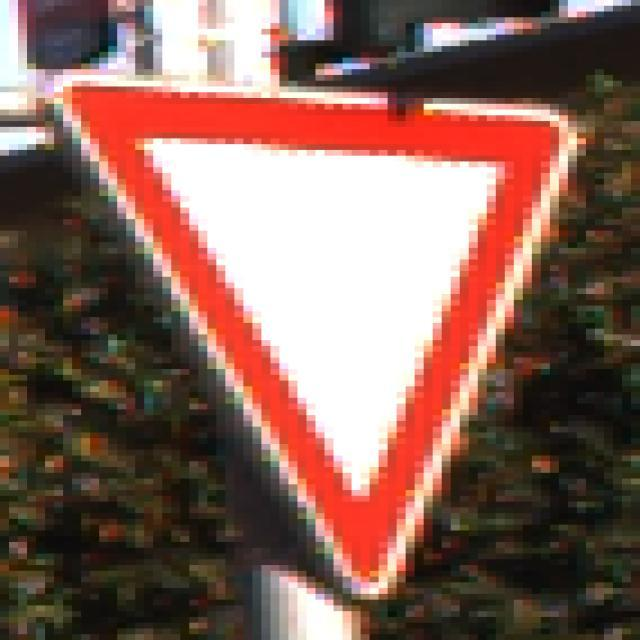give way: (44, 56, 588, 599)
